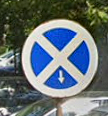oprirea_interzisa: (19, 18, 100, 100)
